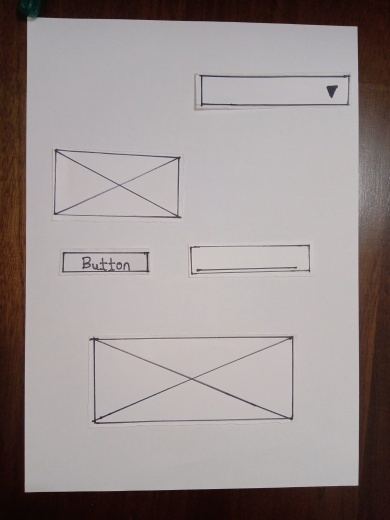button: (62, 253, 146, 273)
dropdown: (202, 78, 346, 108)
img: (91, 340, 293, 426), (54, 150, 179, 219)
text: (191, 245, 309, 275)
